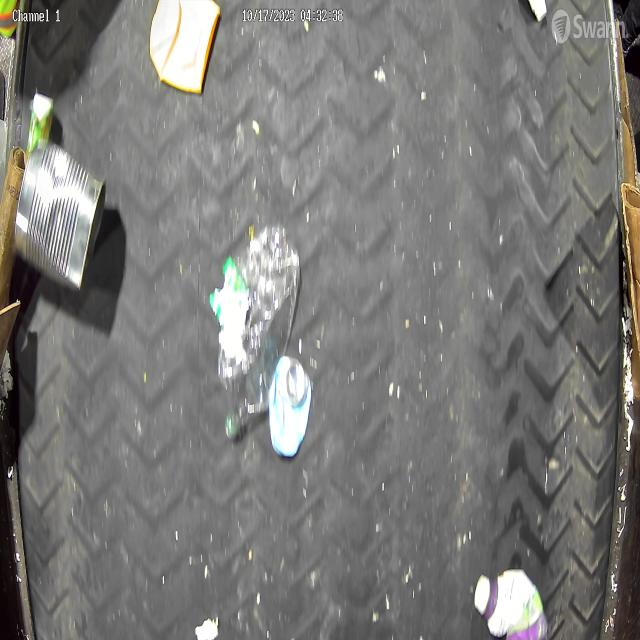can: (15, 138, 105, 294), (269, 352, 314, 460)
